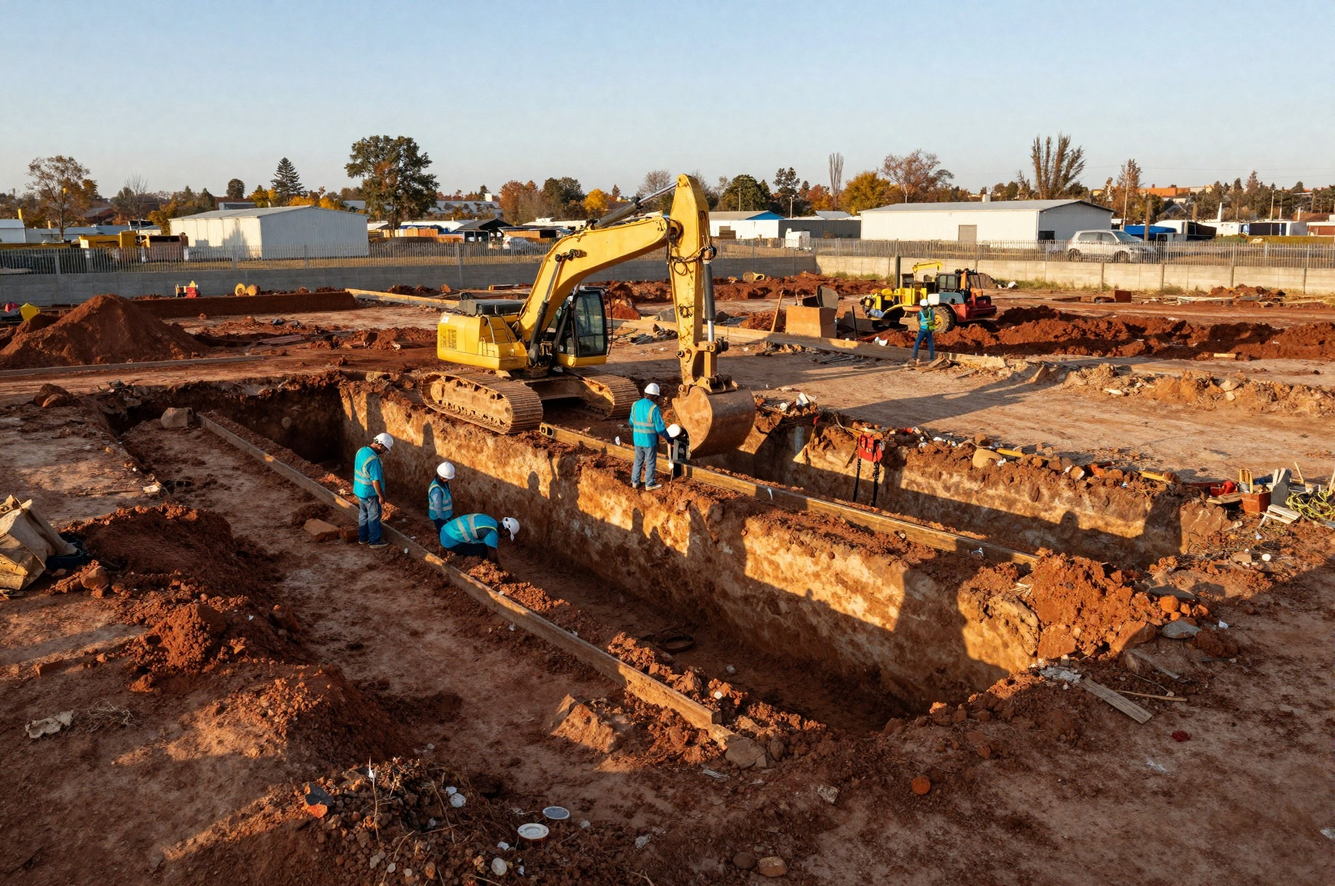excavator: (421, 186, 750, 458)
helmet: (501, 508, 522, 543), (638, 380, 664, 400), (437, 457, 457, 480), (374, 431, 396, 449)
